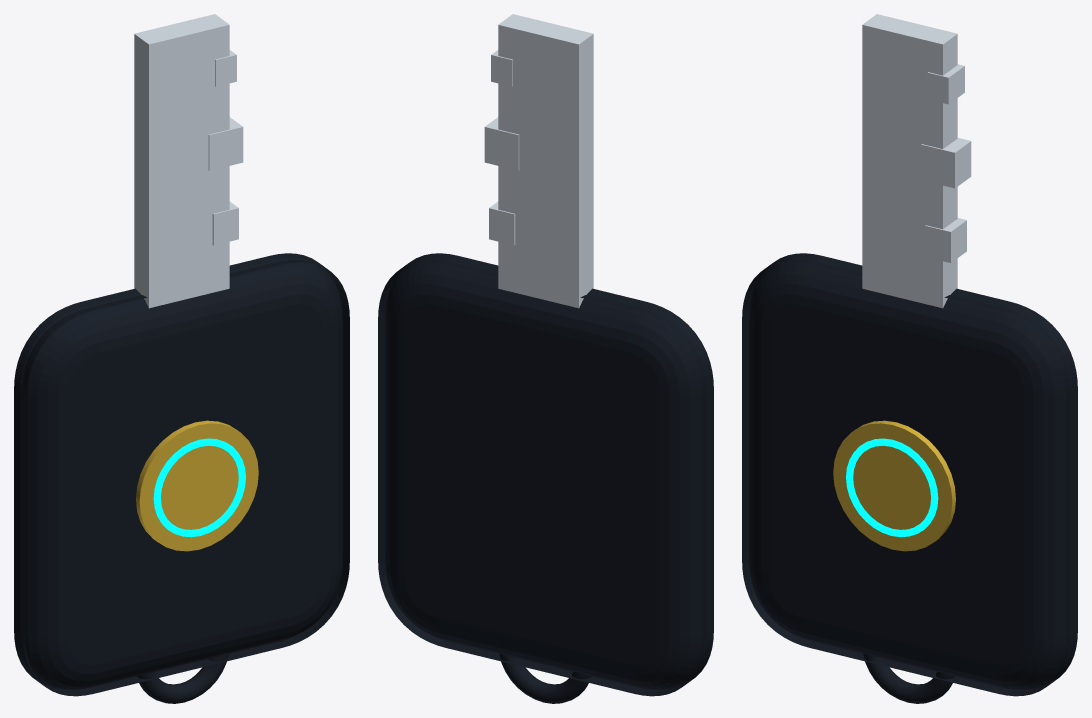
The model's file is crypto_key.glb.
3 views of the same model, side by side, from view 1: azimuth 30°, elevation 25°; view 2: azimuth 150°, elevation 25°; view 3: azimuth 330°, elevation 25° (orthographic).
Visible parts, largest first — view 1: Hardware_Security_Key, Key_Blade; view 2: Hardware_Security_Key, Key_Blade; view 3: Hardware_Security_Key, Key_Blade.
Part boxes in pixels (left/top/right/bottom): Hardware_Security_Key: left=14, top=253, right=349, bottom=703; Key_Blade: left=134, top=14, right=243, bottom=308; Hardware_Security_Key: left=378, top=253, right=713, bottom=703; Key_Blade: left=484, top=14, right=593, bottom=308; Hardware_Security_Key: left=742, top=253, right=1077, bottom=703; Key_Blade: left=862, top=14, right=971, bottom=308.
Bounding box in the file's own units: 1.52 × 3.02 × 0.27.
